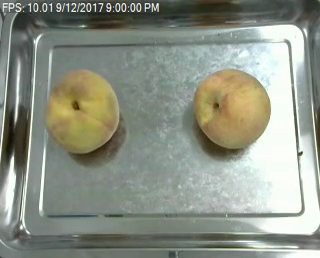Peach: (44, 68, 120, 154), (195, 69, 272, 150)
